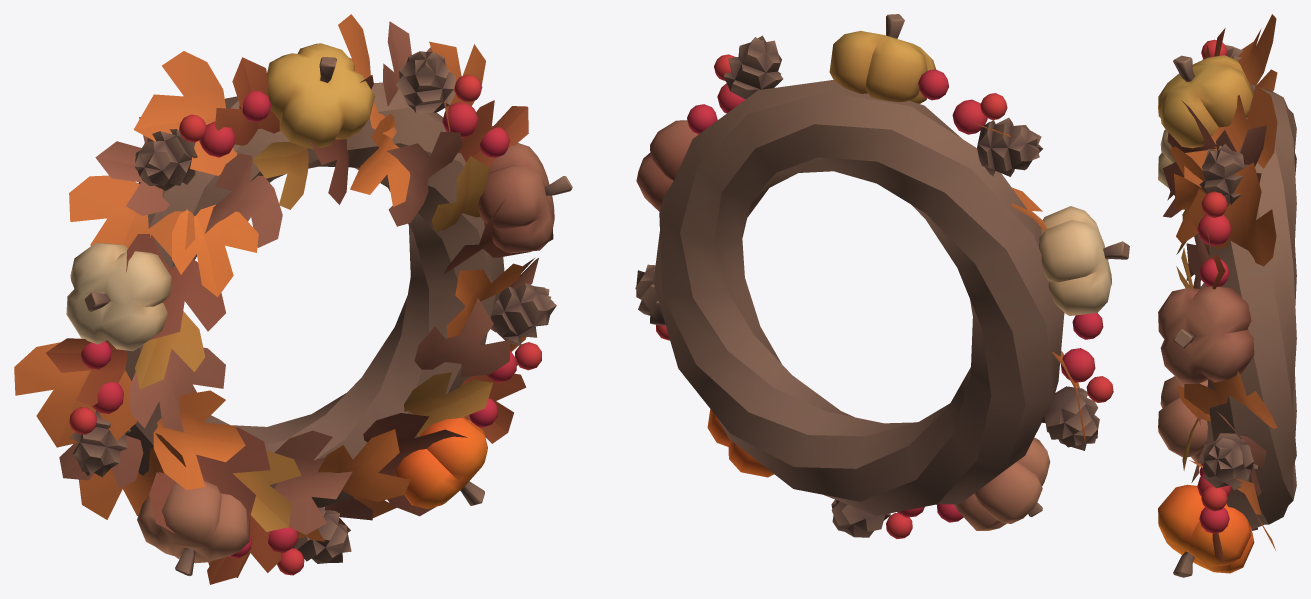
The model's file is autumn_wreath.gltf.
3 views of the same model, side by side, from view 1: azimuth 30°, elevation 25°; view 2: azimuth 150°, elevation 25°; view 3: azimuth 270°, elevation 25° (orthographic). The views are drawn at different scales.
Visible parts, largest first — view 1: autumn_wreath; view 2: autumn_wreath; view 3: autumn_wreath.
Boxes of the visible parts, x1,y1,x2,y2 form: autumn_wreath: (14, 14, 572, 584); autumn_wreath: (635, 14, 1129, 538); autumn_wreath: (1158, 14, 1296, 577).
Size of the model in its own units: 1.47 by 1.47 by 0.36.
1 material, 1 textured.
